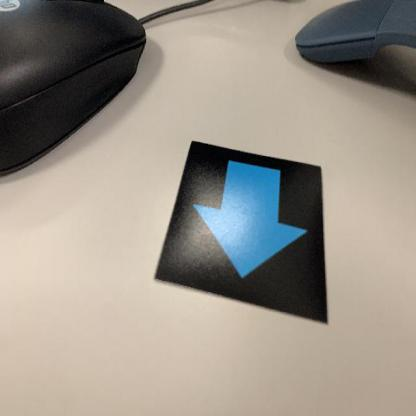down: (153, 140, 330, 325)
